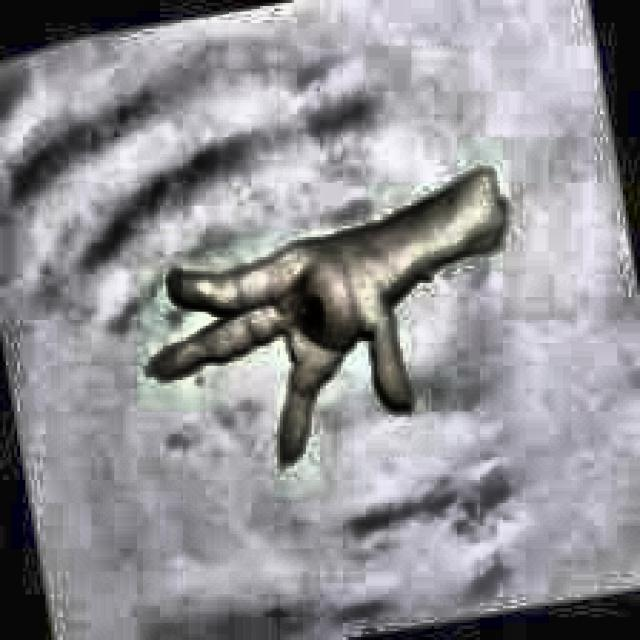Bumble foot: (143, 160, 508, 466)
